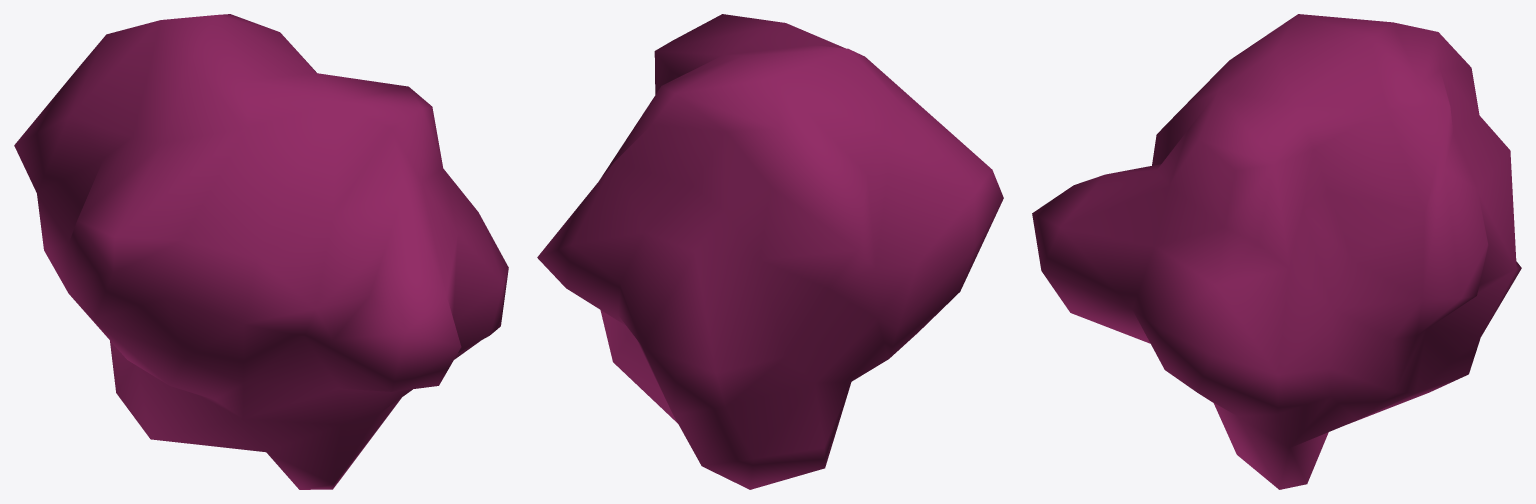
The model's file is Mgenitalium_pth_2pth_0_1_0.dae.
3 renders of one model, left to right at view 1: azimuth 30°, elevation 25°; view 2: azimuth 150°, elevation 25°; view 3: azimuth 270°, elevation 25°, orthographic. The views are drawn at different scales.
Visible parts, largest first — view 1: CoarseMS_2pth; view 2: CoarseMS_2pth; view 3: CoarseMS_2pth.
Part boxes in pixels (box(x1,y1,x2,y2)): CoarseMS_2pth: box(14, 14, 508, 489); CoarseMS_2pth: box(537, 14, 1003, 489); CoarseMS_2pth: box(1032, 14, 1521, 489).
Size of the model in its own units: 43.66 by 48.36 by 51.03.
